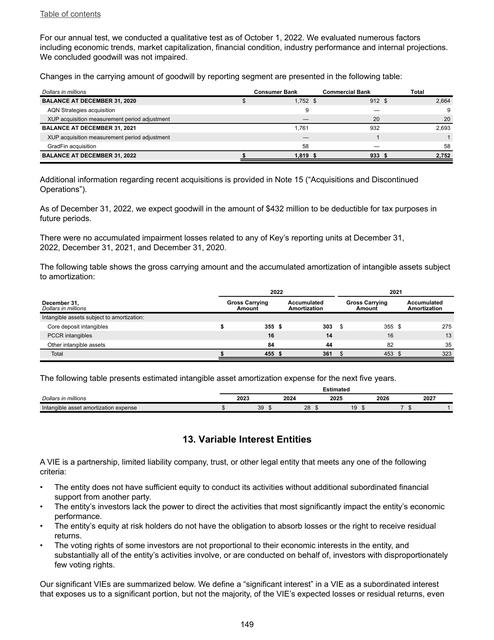box: (40, 288, 456, 416), (40, 87, 456, 167)
